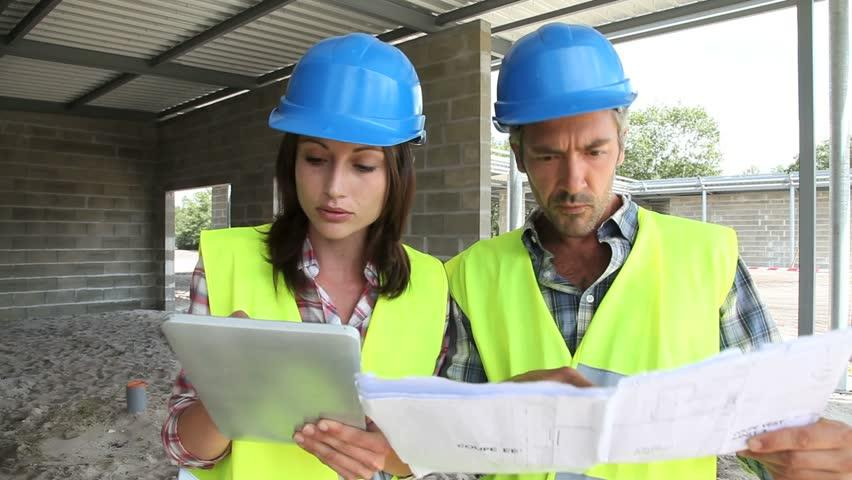helmet: (273, 35, 428, 147), (493, 25, 636, 130)
